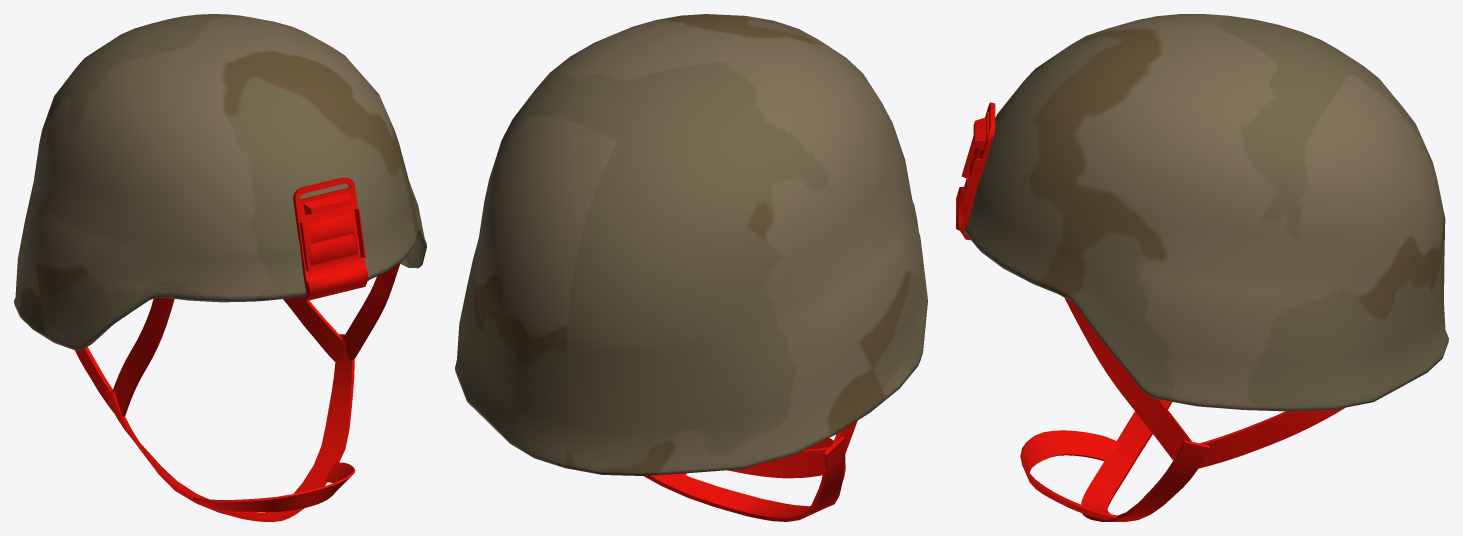
The model's file is ACH.fbx.
3 views of the same model, side by side, from view 1: azimuth 30°, elevation 25°; view 2: azimuth 150°, elevation 25°; view 3: azimuth 270°, elevation 25° (orthographic). The views are drawn at different scales.
Parts seen in each view (by area): view 1: Helmet; view 2: Helmet; view 3: Helmet.
Part boxes in pixels (x1,y1,x2,y2): Helmet: [14, 14, 426, 521]; Helmet: [455, 14, 927, 521]; Helmet: [956, 14, 1448, 521].
Bounding box in the file's own units: 22.6 × 25.78 × 27.37.
